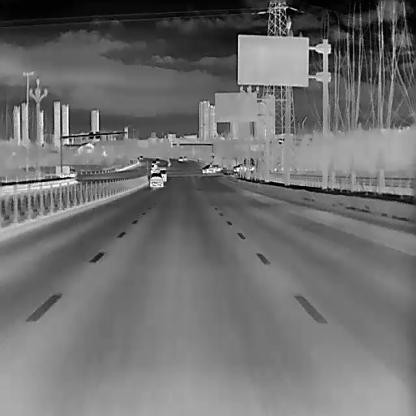car: (148, 171, 163, 187), (201, 162, 221, 172), (232, 162, 248, 172), (158, 166, 166, 180), (177, 155, 182, 161), (182, 155, 187, 160), (151, 159, 155, 164), (138, 154, 143, 158), (155, 158, 159, 162)
truck: (54, 164, 76, 177)
